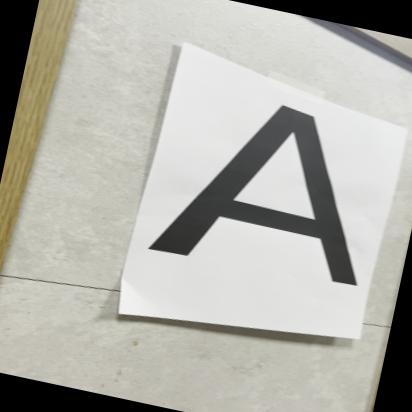seat: (128, 61, 412, 314)
